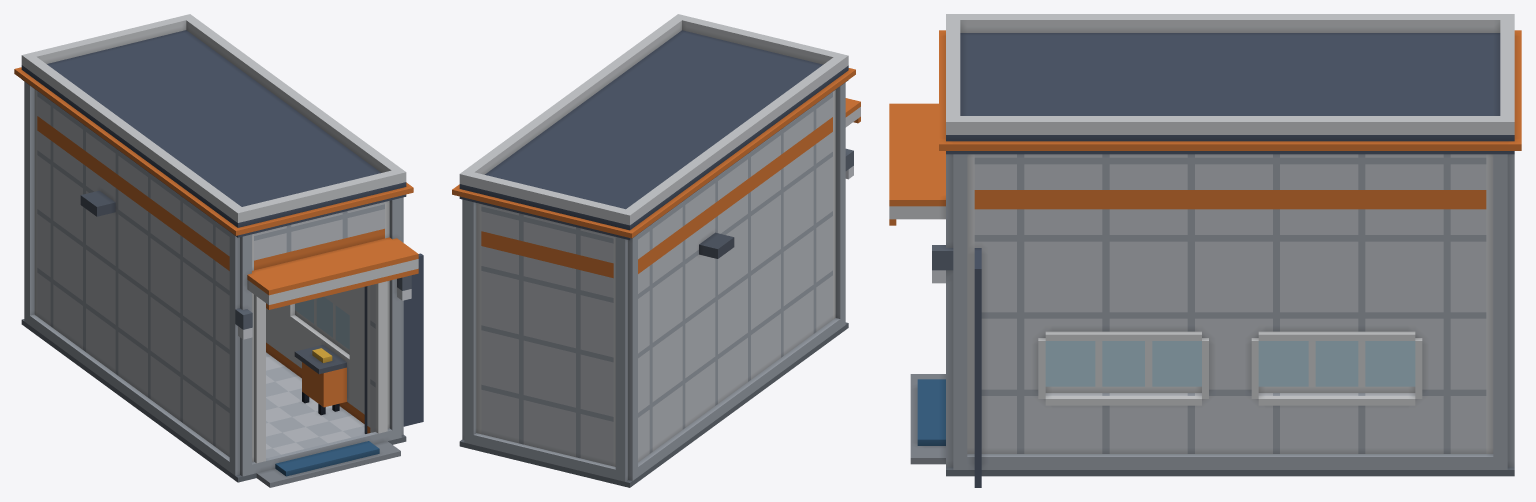
The model's file is factory_e3_l3.glb.
The picture shows the model from 3 angles, left to right: view 1: azimuth 30°, elevation 25°; view 2: azimuth 150°, elevation 25°; view 3: azimuth 270°, elevation 25°; orthographic projection. The views are drawn at different scales.
Visible parts, largest first — view 1: CutRoof, CutNX, Base, CutPZ, CutPX, CutNZ; view 2: CutRoof, CutNX, CutNZ, Base, CutPZ; view 3: CutPX, CutRoof, Base, CutPZ, CutNZ.
Boxes of the visible parts, x1,y1,x2,y2 form: CutRoof: (14, 14, 413, 237); CutNX: (37, 91, 229, 422); Base: (21, 190, 423, 487); CutPZ: (229, 197, 423, 432); CutPX: (269, 287, 364, 379); CutNZ: (24, 82, 37, 281); CutRoof: (452, 14, 855, 240); CutNX: (638, 92, 832, 427); CutNZ: (462, 199, 637, 436); Base: (459, 232, 848, 487); CutPZ: (833, 82, 860, 284); CutPX: (974, 154, 1486, 408); CutRoof: (939, 14, 1521, 154); Base: (910, 374, 1514, 487); CutPZ: (889, 103, 981, 429); CutNZ: (1486, 154, 1514, 411).
Bounding box in the file's own units: 4.5 × 5.5 × 8.9.
